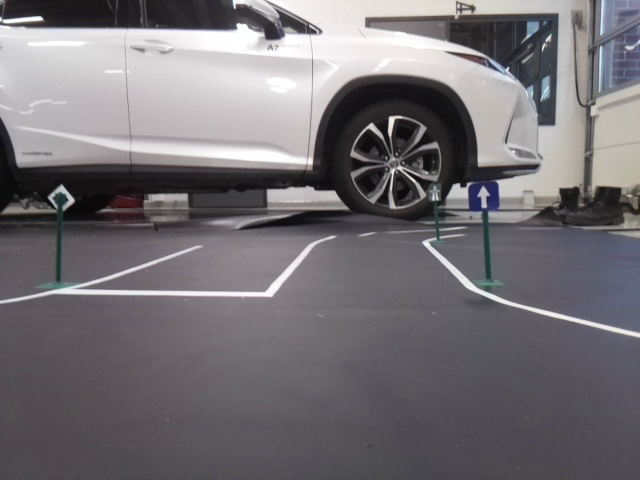HighwayEntrance: (426, 180, 440, 202)
OneWay: (470, 184, 499, 210)
